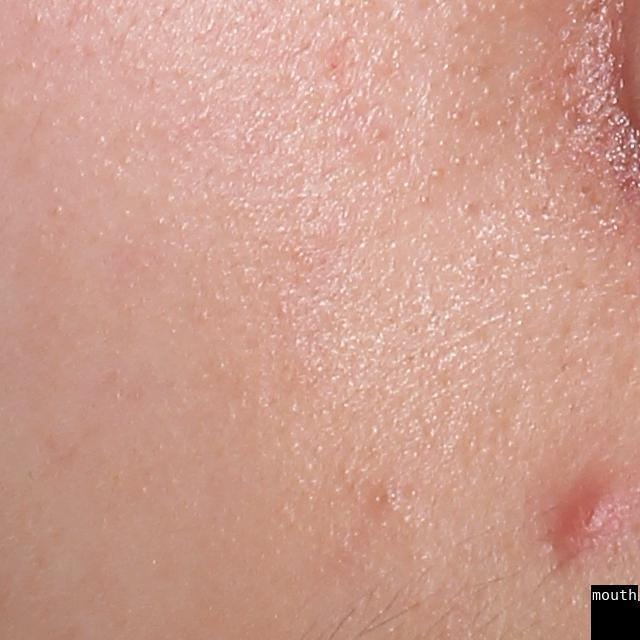papule: (552, 478, 624, 555)
